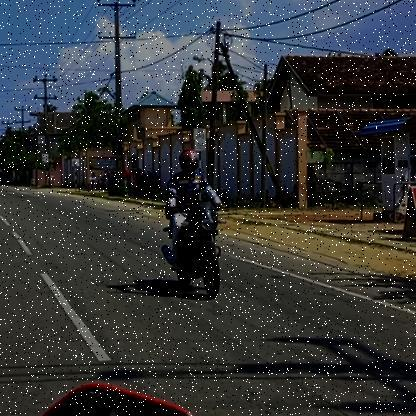motorcycle: (158, 200, 238, 300)
